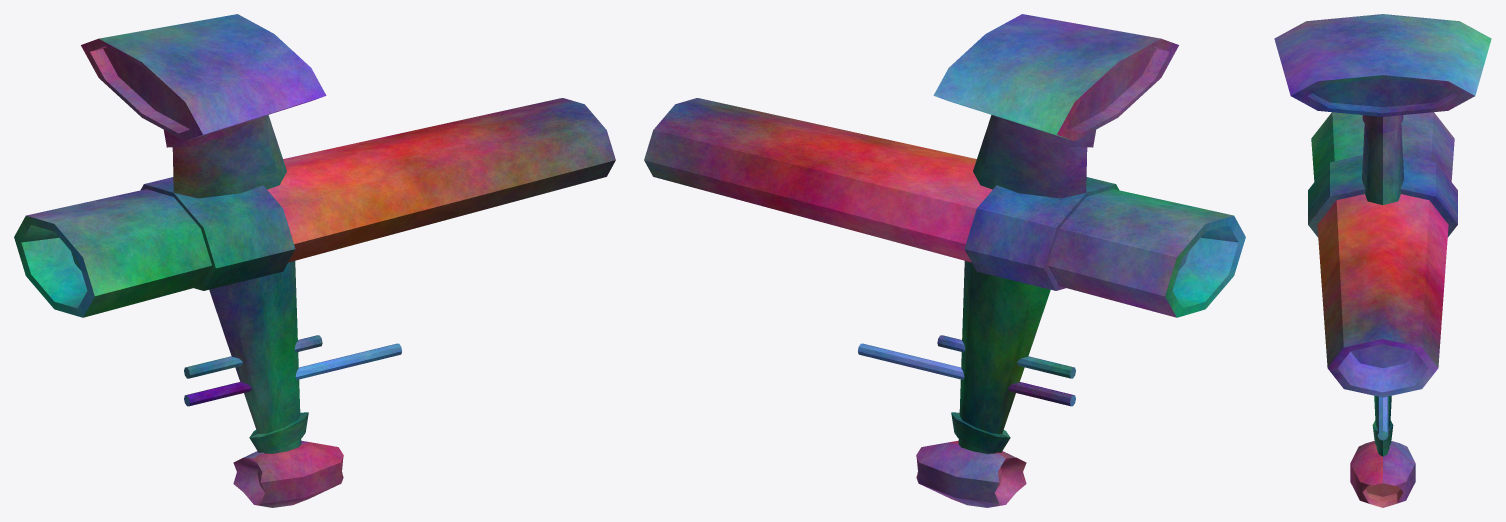
The model's file is disruptor.obj.
3 renders of one model, left to right at view 1: azimuth 30°, elevation 25°; view 2: azimuth 150°, elevation 25°; view 3: azimuth 270°, elevation 25°, orthographic. The views are drawn at different scales.
Visible parts, largest first — view 1: Disruptor; view 2: Disruptor; view 3: Disruptor.
Part boxes in pixels (box(x1,y1,x2,y2)): Disruptor: box(14, 14, 615, 507); Disruptor: box(644, 14, 1245, 507); Disruptor: box(1274, 14, 1491, 507).
Size of the model in its own units: 50 by 42.56 by 20.
Materials: 1 (1 with a texture image).
